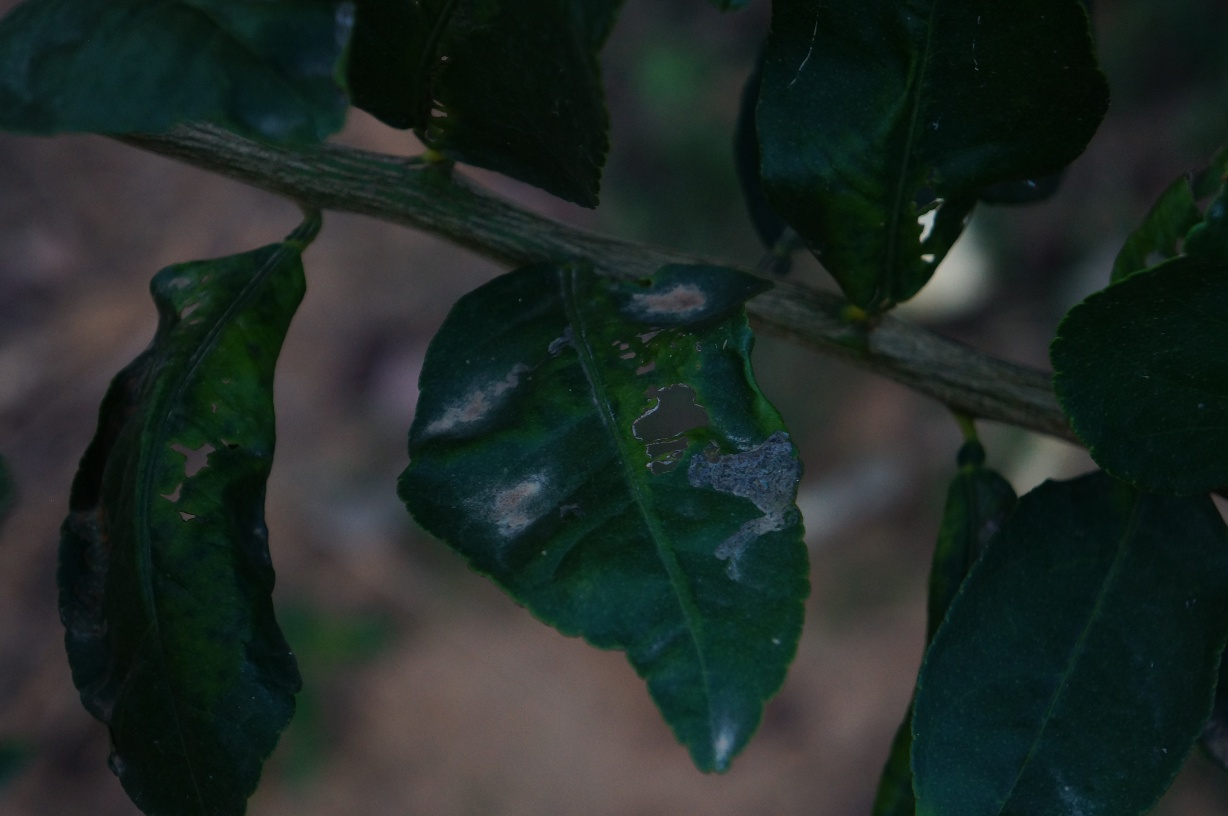damage: (668, 423, 807, 580), (607, 331, 723, 478)
